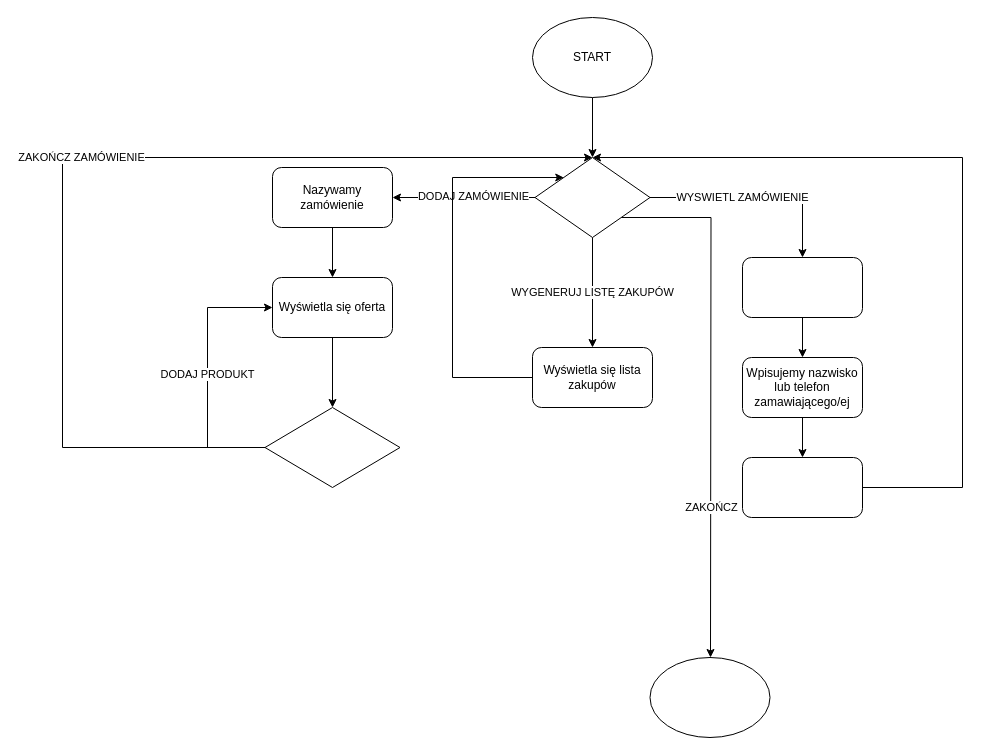
The diagram is 988 pixels wide and 755 high, and some of its shapes have lost their labels. The centre of each missing label's shape, as x and y in pixels:
KONIEC: pixel 709 697
Wyświetlają się szczegóły zamówień: pixel 802 487
Wyświetlają się zamówienia: pixel 802 287
